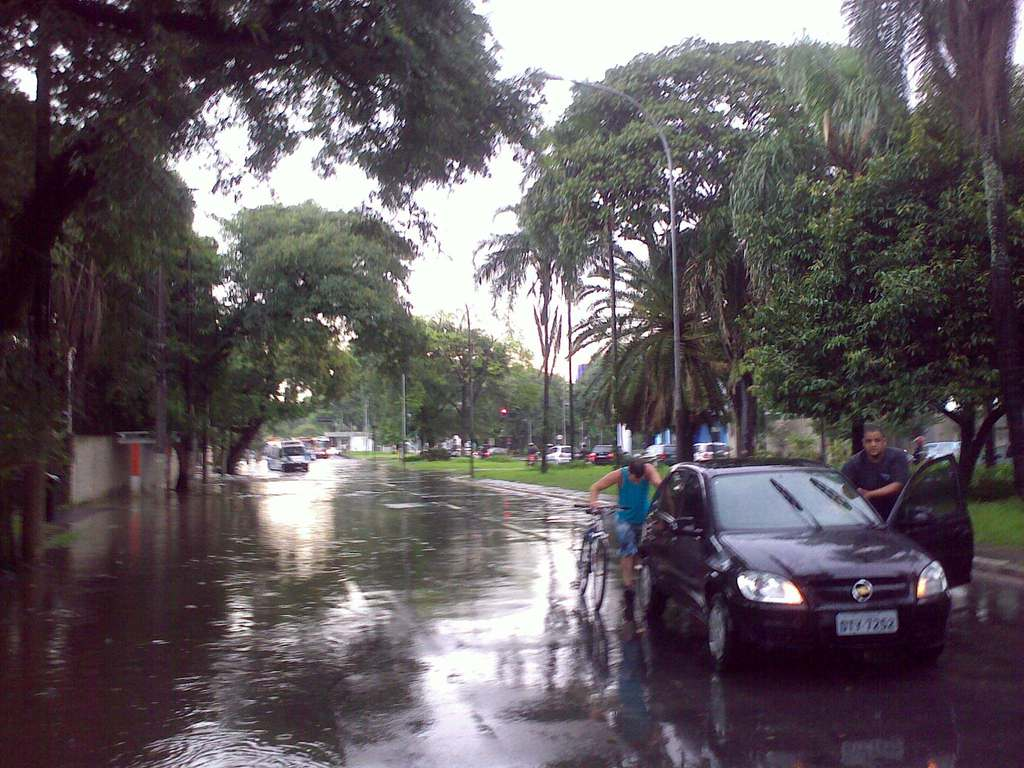Tree: (0, 0, 1024, 564)
